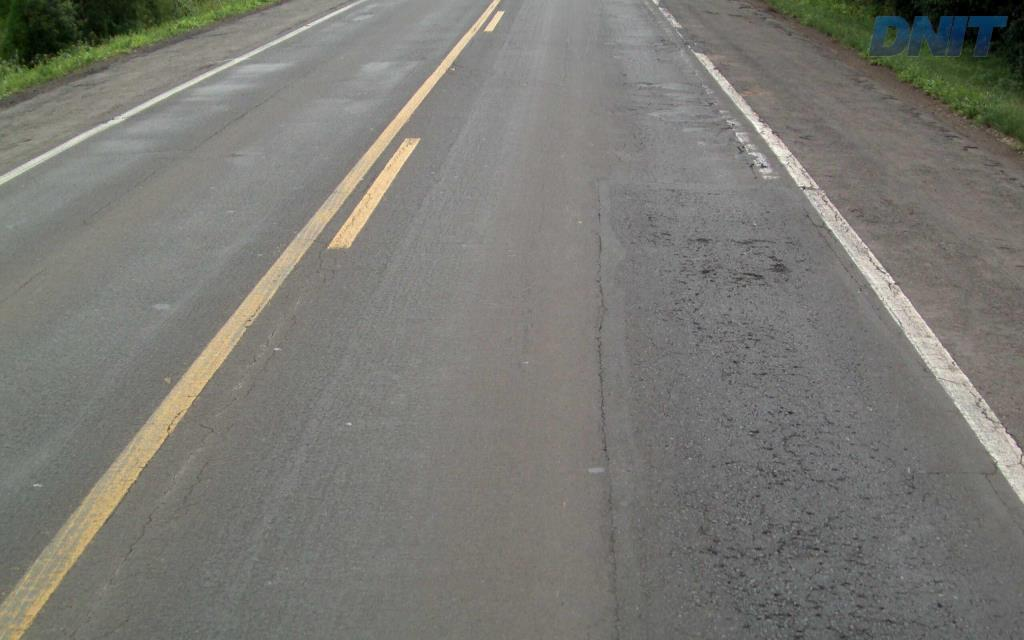crack: (694, 525, 838, 639), (604, 514, 635, 623), (819, 605, 907, 639), (734, 462, 791, 495), (759, 502, 802, 538), (710, 453, 748, 488), (674, 431, 707, 470)
